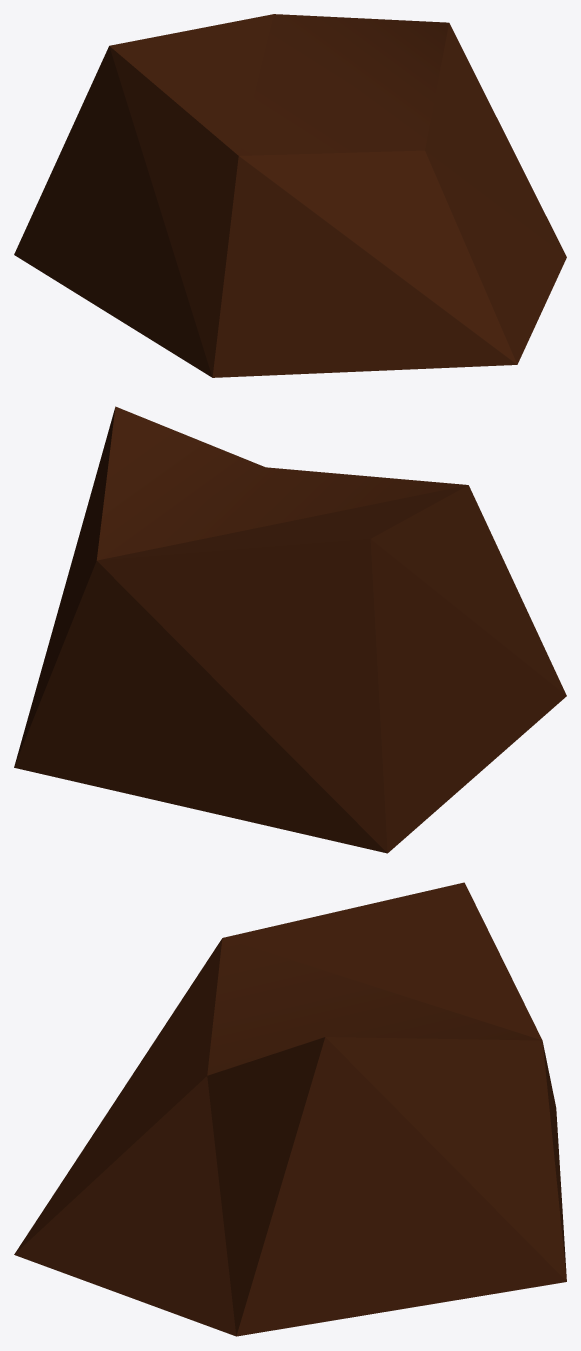
The model's file is Tree3_M1_dead3.fbx.
The picture shows the model from 3 angles, top to bottom: view 1: azimuth 30°, elevation 25°; view 2: azimuth 150°, elevation 25°; view 3: azimuth 270°, elevation 25°; orthographic projection. The views are drawn at different scales.
Visible parts, largest first — view 1: Tree3_M1_dead3; view 2: Tree3_M1_dead3; view 3: Tree3_M1_dead3.
Boxes of the visible parts, x1,y1,x2,y2 form: Tree3_M1_dead3: [14, 14, 566, 377]; Tree3_M1_dead3: [14, 406, 566, 853]; Tree3_M1_dead3: [14, 882, 566, 1336].
Bounding box in the file's own units: 54.94 × 28.69 × 56.17.
